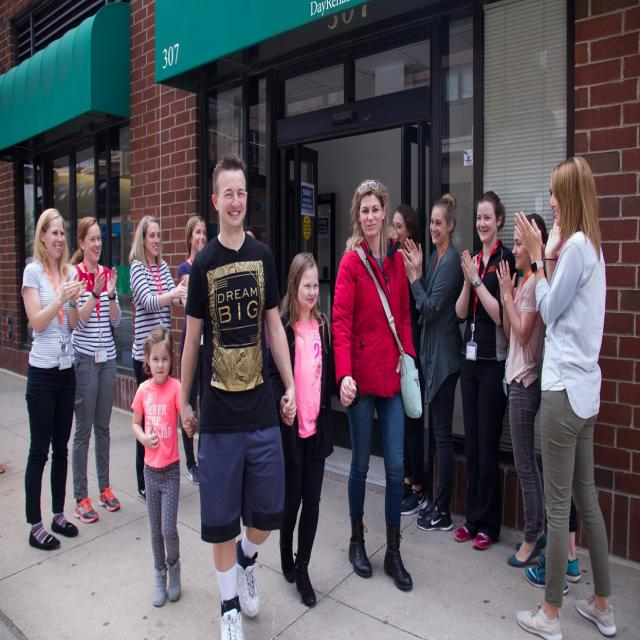body: (178, 148, 299, 640), (512, 153, 621, 639), (328, 175, 424, 595), (265, 250, 359, 610), (520, 163, 586, 596), (450, 189, 520, 554), (18, 205, 90, 555), (394, 189, 466, 534), (129, 323, 199, 608), (495, 211, 549, 569), (128, 214, 189, 505), (67, 213, 123, 526), (388, 202, 428, 517), (176, 215, 207, 488)
